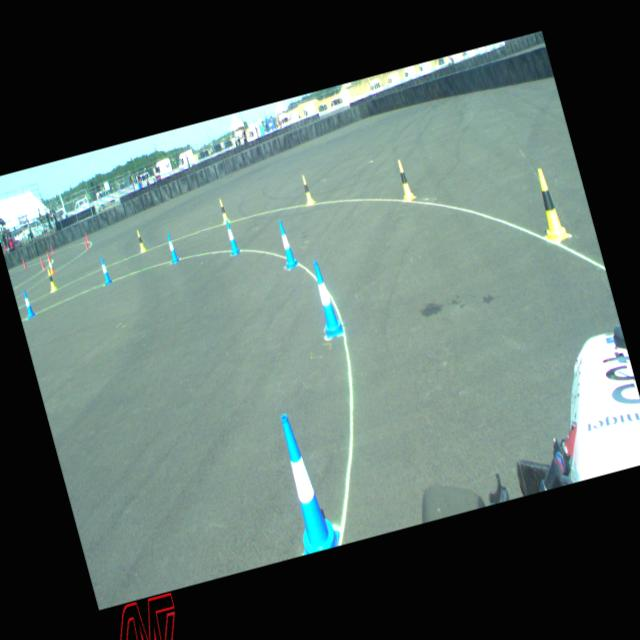blue_cone: (267, 408, 343, 555), (307, 258, 344, 338), (274, 218, 298, 269), (222, 218, 240, 255), (163, 231, 180, 263), (20, 288, 35, 318), (98, 255, 112, 285)
orange_cone: (46, 257, 56, 275)
unknown_cone: (38, 256, 45, 270), (82, 237, 89, 250), (84, 230, 90, 242), (46, 249, 52, 261), (22, 258, 26, 268), (50, 243, 54, 253)
yellow_cone: (528, 165, 568, 243), (393, 158, 415, 202), (298, 173, 314, 205), (217, 198, 230, 224), (134, 228, 146, 252), (46, 267, 58, 291)
